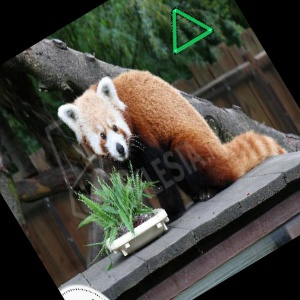triangle: (167, 4, 216, 55)
